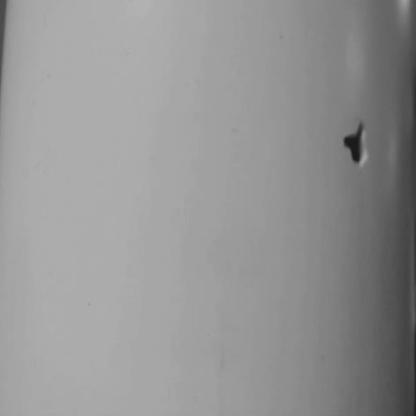kongdong: (339, 117, 373, 181)
